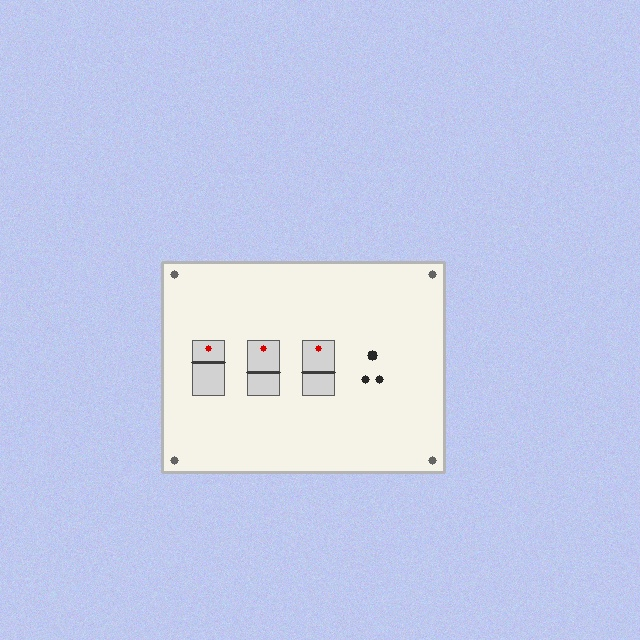switchboard: (162, 262, 444, 472)
